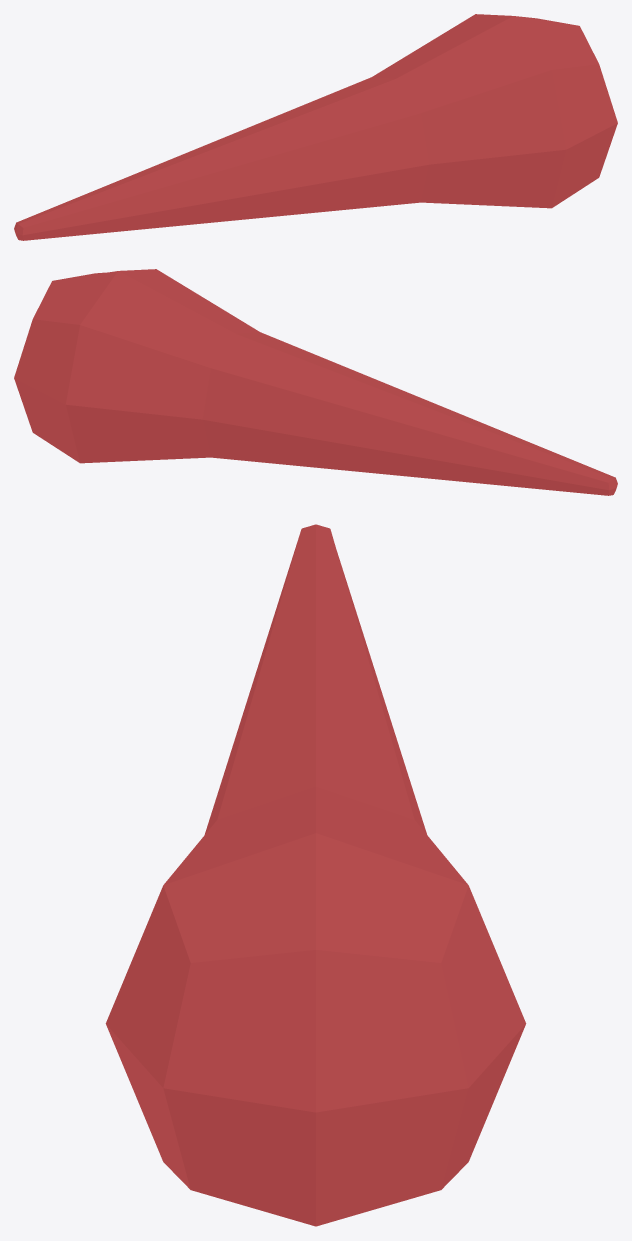
The model's file is SecurityBolt.glb.
The picture shows the model from 3 angles, top to bottom: view 1: azimuth 30°, elevation 25°; view 2: azimuth 150°, elevation 25°; view 3: azimuth 270°, elevation 25°; orthographic projection. The views are drawn at different scales.
Parts seen in each view (by area): view 1: Cube; view 2: Cube; view 3: Cube.
Boxes of the visible parts, x1=… form: Cube: x1=14, y1=14, x2=617, y2=240; Cube: x1=14, y1=269, x2=617, y2=495; Cube: x1=105, y1=524, x2=526, y2=1226.
Size of the model in its own units: 5.43 by 1.68 by 1.68.
